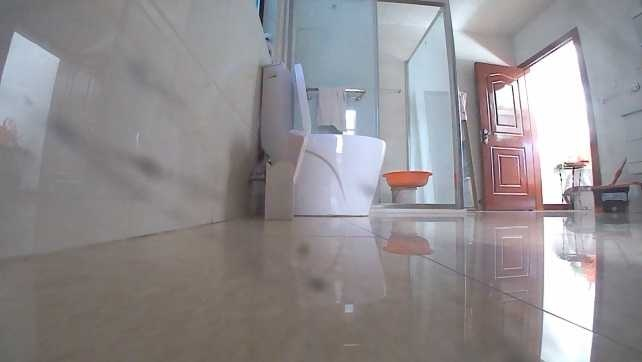door_anno: (474, 60, 541, 210)
toilet: (256, 61, 388, 221)
